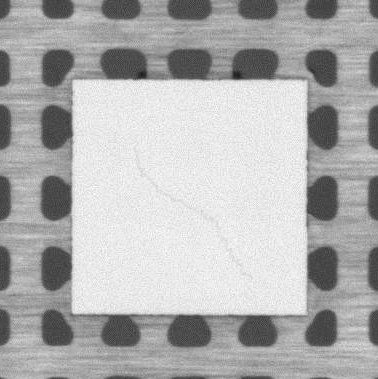DIE_CRACK: (134, 149, 255, 283)
